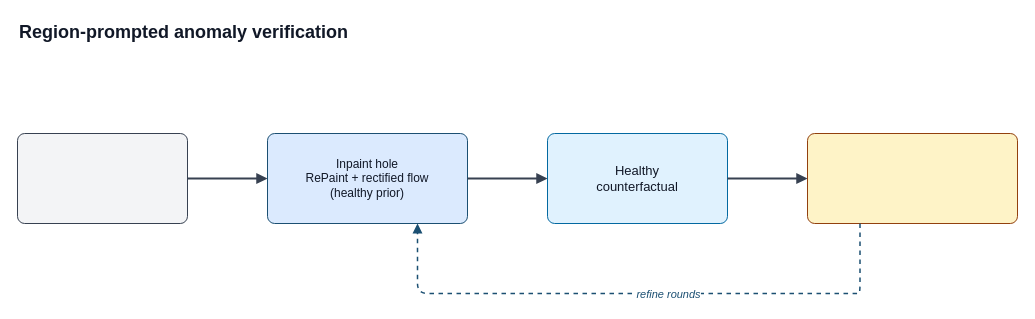
The diagram is 1035 pixels wide and 319 high, and some of its shapes have lost their labels. Here are the shapes that lost their labels. From the top down, the box of each, then its label:
(16, 132, 188, 224): CT patch + weak box prompt
(806, 132, 1018, 224): Residual |x - xhat| -> anomaly mask + iterative refine
